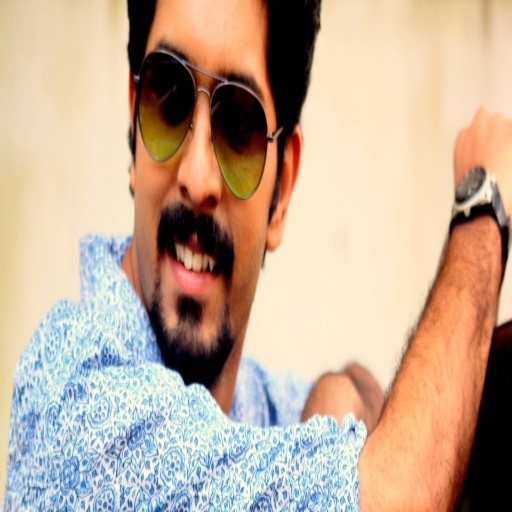hand: (443, 120, 506, 277), (300, 371, 368, 436)
